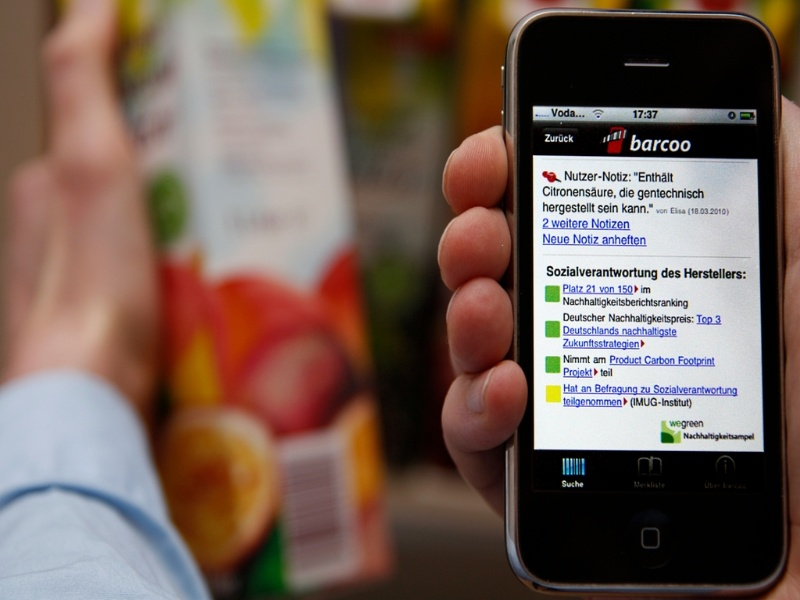cellphone: (495, 7, 793, 600)
